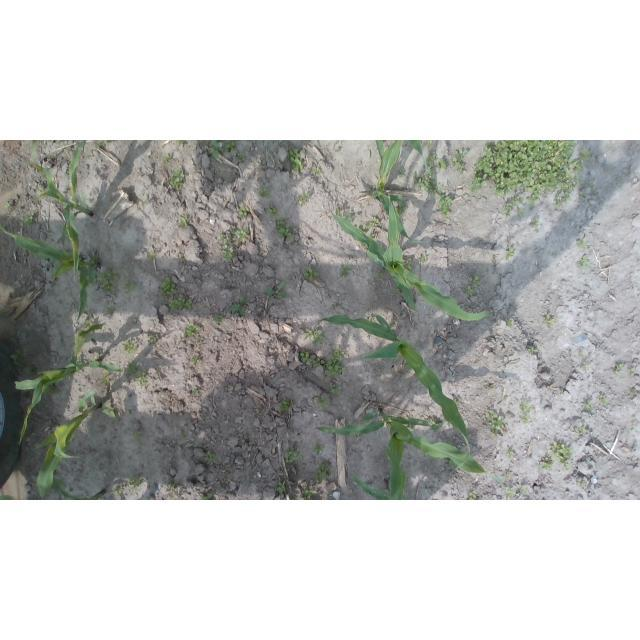Maize: (319, 312, 472, 472), (328, 194, 491, 323), (314, 407, 515, 493), (17, 321, 126, 448), (0, 222, 96, 322), (29, 140, 94, 281), (32, 390, 100, 497), (369, 140, 431, 246), (1, 476, 106, 500), (351, 469, 406, 500), (374, 141, 426, 164)
Weeds: (469, 140, 583, 208), (413, 169, 443, 195), (550, 440, 574, 470), (324, 347, 346, 377), (95, 269, 117, 294), (486, 410, 506, 437), (209, 141, 236, 160), (286, 147, 304, 172), (167, 294, 195, 310), (452, 149, 469, 173), (265, 280, 287, 298), (275, 218, 293, 239), (229, 293, 246, 315), (464, 275, 481, 297), (437, 195, 453, 218), (169, 169, 186, 190), (158, 276, 175, 296), (304, 328, 325, 344), (230, 225, 248, 242), (520, 401, 533, 424), (285, 447, 303, 463), (102, 402, 118, 420), (315, 463, 329, 483), (222, 240, 235, 260), (135, 371, 150, 388), (278, 397, 296, 411), (361, 218, 380, 231), (166, 480, 178, 500), (303, 484, 318, 500), (315, 395, 331, 410), (128, 475, 143, 491), (303, 267, 320, 281), (85, 254, 99, 271), (123, 341, 138, 356), (183, 322, 199, 336), (429, 417, 443, 432), (540, 457, 555, 471), (10, 350, 23, 366), (298, 190, 311, 206), (44, 383, 61, 395), (338, 265, 352, 279), (267, 204, 281, 218), (127, 361, 141, 375), (395, 201, 408, 216), (121, 279, 137, 291), (257, 187, 272, 199), (580, 148, 593, 161), (25, 365, 39, 377), (542, 314, 554, 328), (300, 349, 312, 363), (203, 451, 215, 465), (436, 159, 451, 170), (580, 255, 591, 270), (214, 314, 226, 327), (402, 258, 414, 271), (23, 214, 35, 227), (239, 203, 250, 217), (505, 247, 515, 262), (576, 236, 588, 248), (313, 442, 324, 455), (102, 371, 111, 386), (425, 153, 437, 164), (330, 385, 342, 396), (445, 457, 458, 467), (276, 483, 286, 496), (111, 486, 124, 496), (503, 207, 514, 218), (504, 489, 516, 499), (574, 425, 586, 435), (312, 356, 324, 366), (148, 333, 160, 343), (614, 364, 623, 377), (418, 253, 429, 263), (35, 189, 45, 200), (468, 489, 477, 500), (530, 218, 539, 229), (106, 306, 117, 315), (161, 154, 172, 163), (200, 492, 212, 500), (312, 166, 322, 175), (599, 395, 609, 404), (134, 430, 143, 440), (96, 140, 107, 148), (584, 401, 592, 412), (526, 347, 538, 354), (587, 181, 596, 190), (518, 208, 527, 217), (84, 320, 93, 329), (179, 218, 188, 227), (396, 170, 404, 179), (238, 151, 247, 159), (505, 318, 513, 327), (506, 449, 515, 457), (630, 389, 638, 398), (149, 252, 156, 262), (520, 485, 527, 495), (175, 140, 186, 146), (368, 316, 376, 324), (406, 424, 414, 432), (375, 270, 383, 278), (191, 358, 200, 365), (345, 212, 352, 221), (139, 199, 148, 206), (219, 233, 226, 241), (629, 368, 636, 376), (193, 387, 199, 396), (336, 209, 342, 218), (577, 478, 583, 487), (583, 364, 590, 371), (178, 337, 186, 343), (195, 338, 203, 344), (369, 230, 375, 238), (360, 242, 368, 248), (580, 191, 587, 197), (394, 284, 400, 291), (179, 255, 185, 262), (487, 384, 494, 390), (427, 140, 433, 146), (4, 202, 10, 208), (579, 351, 585, 357), (505, 474, 512, 479), (226, 385, 231, 391), (391, 320, 397, 325), (180, 434, 185, 440), (86, 154, 91, 159), (336, 146, 340, 151), (297, 497, 303, 500), (245, 436, 249, 440)
